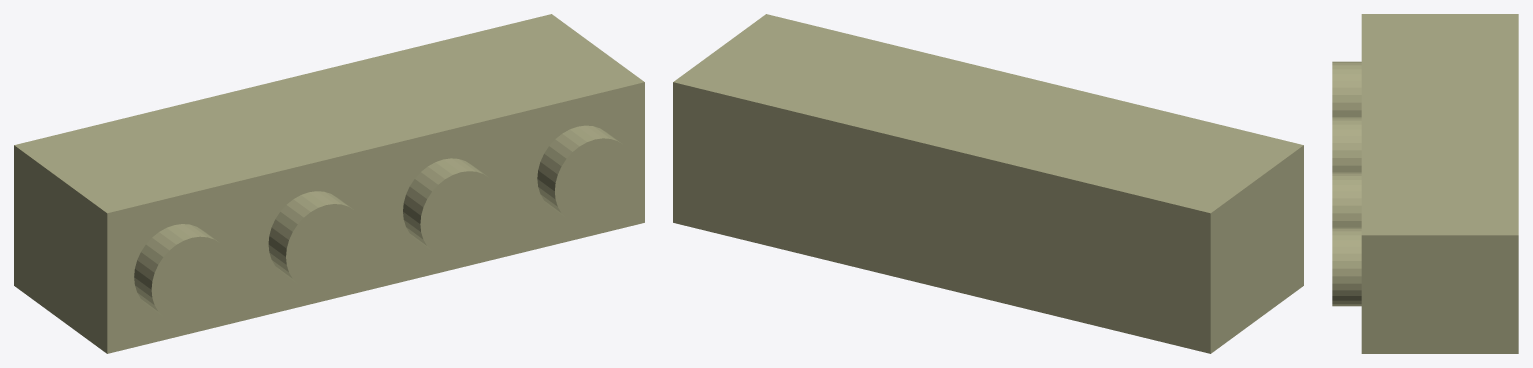
File: brick_2.glb
3 renders of one model, left to right at view 1: azimuth 30°, elevation 25°; view 2: azimuth 150°, elevation 25°; view 3: azimuth 270°, elevation 25°, orthographic. The views are drawn at different scales.
Parts seen in each view (by area): view 1: world; view 2: world; view 3: world.
Boxes of the visible parts, x1,y1,x2,y2 form: world: (14, 14, 644, 353); world: (673, 14, 1303, 353); world: (1332, 14, 1518, 353).
Bounding box in the file's own units: 32 × 8 × 11.4.
